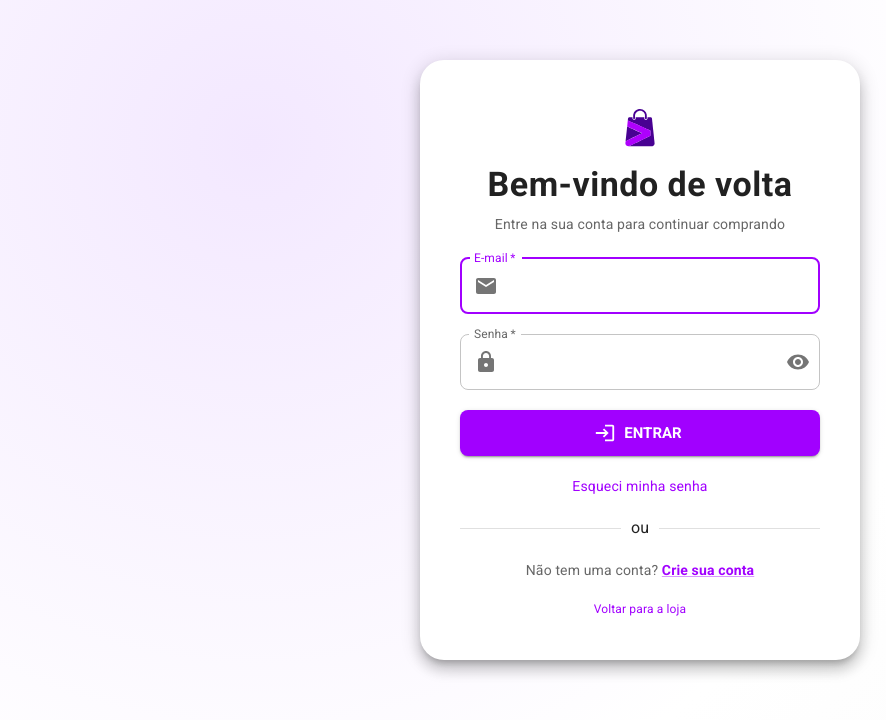
Login › valida senha vazia e curta
Type "a@b.c" into the field labelled "E-mail *" at [663, 286], box x1=506 y1=258 x2=820 y2=314
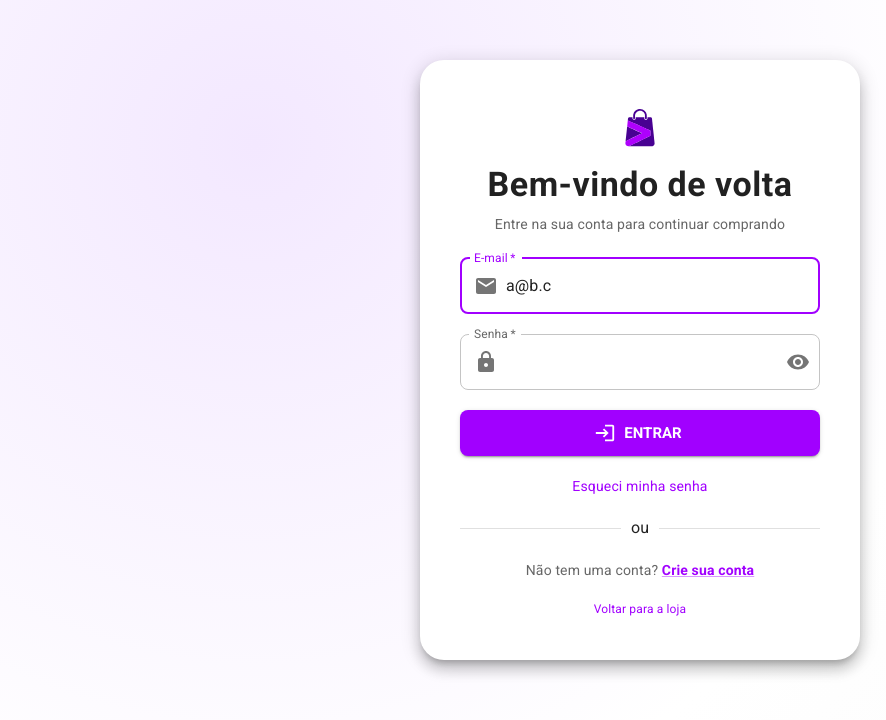
Click the button "Entrar" at [640, 433], box x1=460 y1=410 x2=820 y2=456
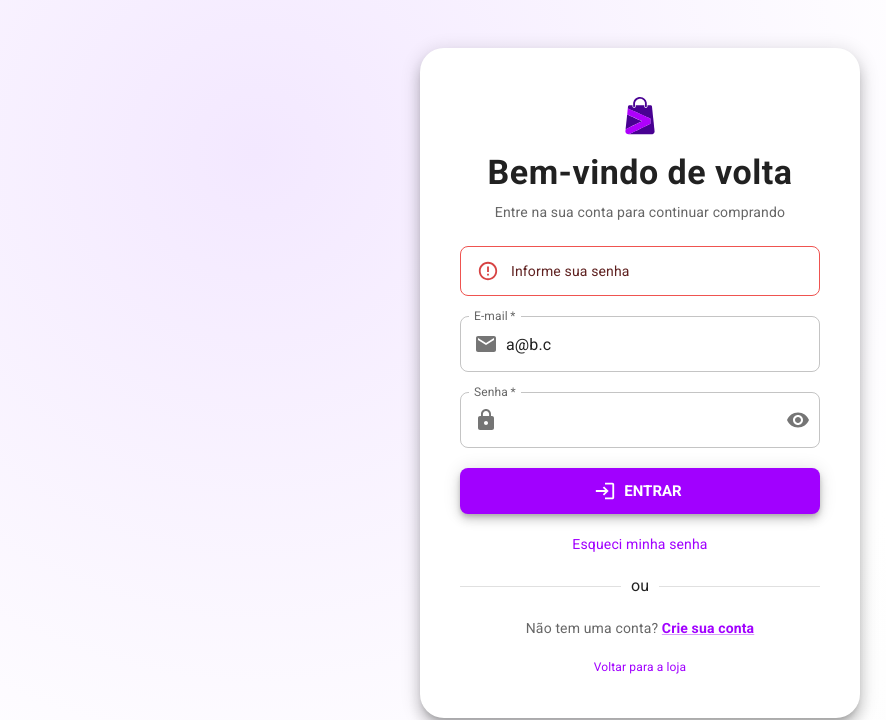
Check: the text "Informe sua senha" is shown, box x1=511 y1=263 x2=630 y2=279
Type "123" into the password field labelled "Senha *" at [638, 420], box x1=506 y1=392 x2=770 y2=448
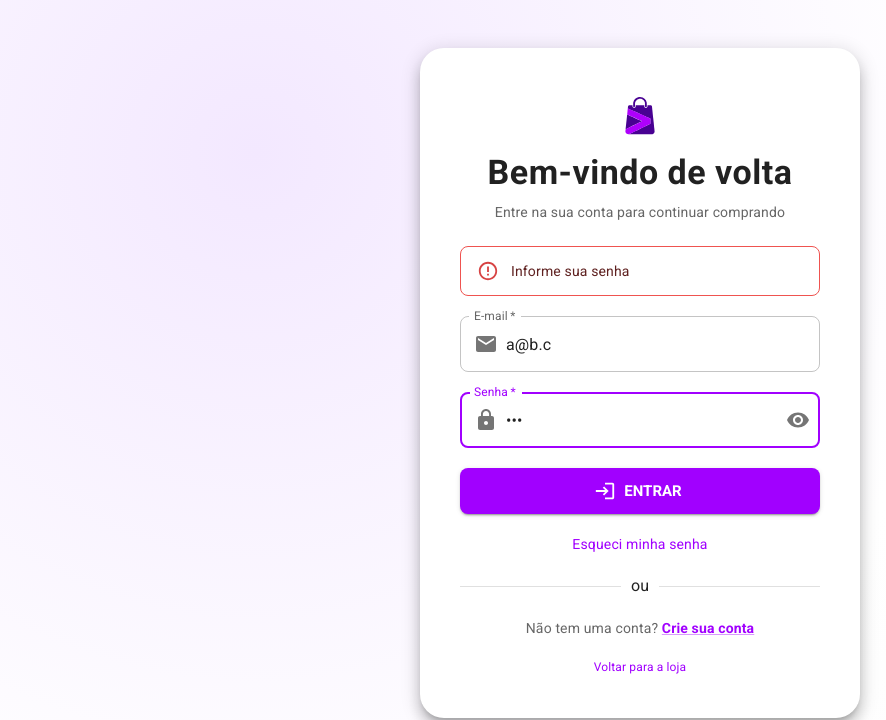
Click the button "Entrar" at [640, 491], box x1=460 y1=468 x2=820 y2=514
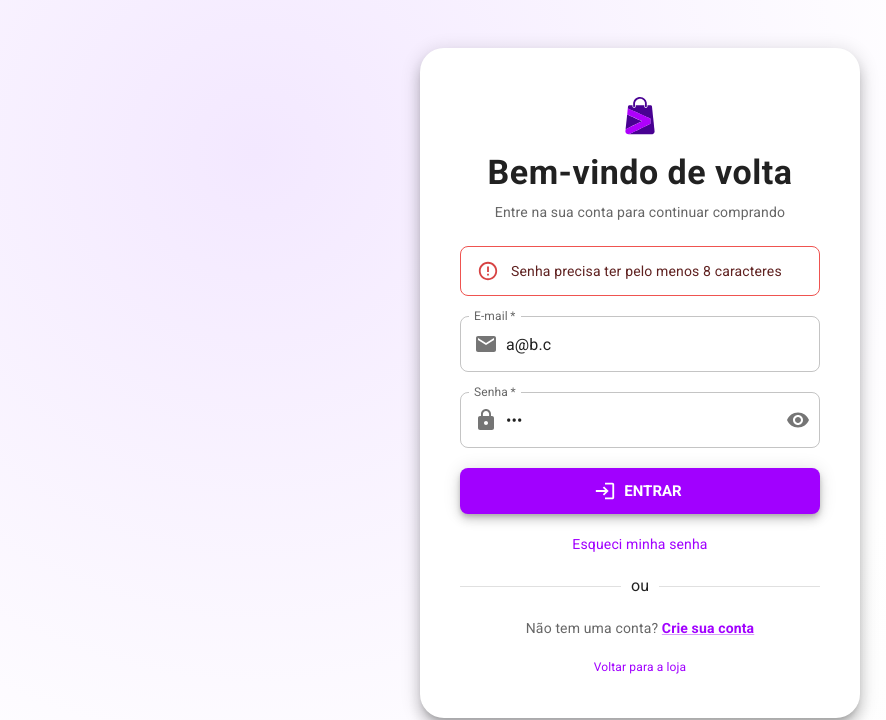
Check: the text "Senha precisa ter pelo menos 8 caracteres" is shown, box x1=511 y1=263 x2=782 y2=279
